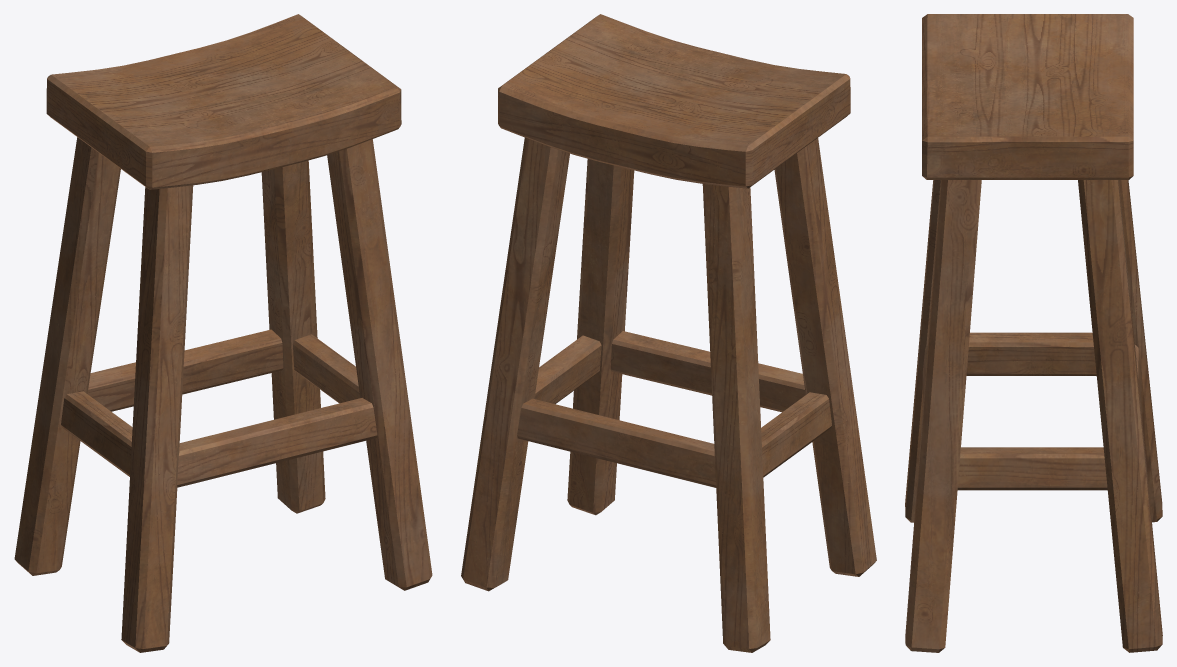
The model's file is barstool.gltf.
3 renders of one model, left to right at view 1: azimuth 30°, elevation 25°; view 2: azimuth 150°, elevation 25°; view 3: azimuth 270°, elevation 25°, orthographic. The views are drawn at different scales.
Visible parts, largest first — view 1: pCube12; view 2: pCube12; view 3: pCube12.
Boxes of the visible parts, x1,y1,x2,y2 form: pCube12: (14, 14, 432, 652); pCube12: (461, 14, 876, 652); pCube12: (905, 14, 1162, 652).
Size of the model in its own units: 1.35 by 2.17 by 0.9997.
Materials: 1 (1 with a texture image).
